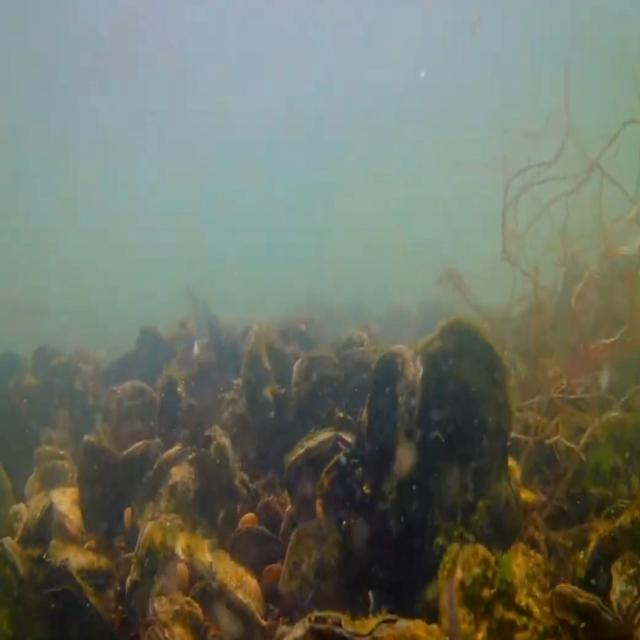Oyster-Closed: (127, 518, 187, 640), (15, 496, 54, 555)
Oyster-Indeterminate: (417, 320, 511, 513), (360, 346, 423, 506), (277, 519, 344, 635), (79, 434, 129, 541), (211, 549, 265, 620), (198, 425, 237, 523)
Oyster-Open: (282, 430, 358, 526), (149, 442, 199, 507), (31, 446, 78, 487)
